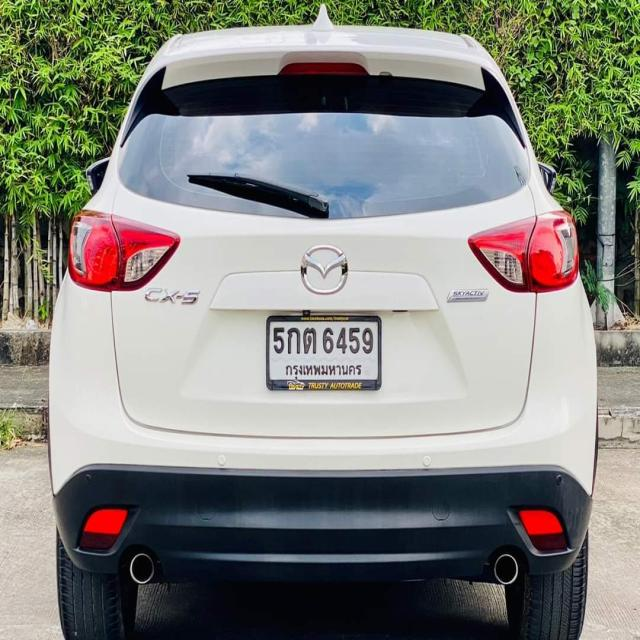license_plate: (265, 312, 384, 394)
